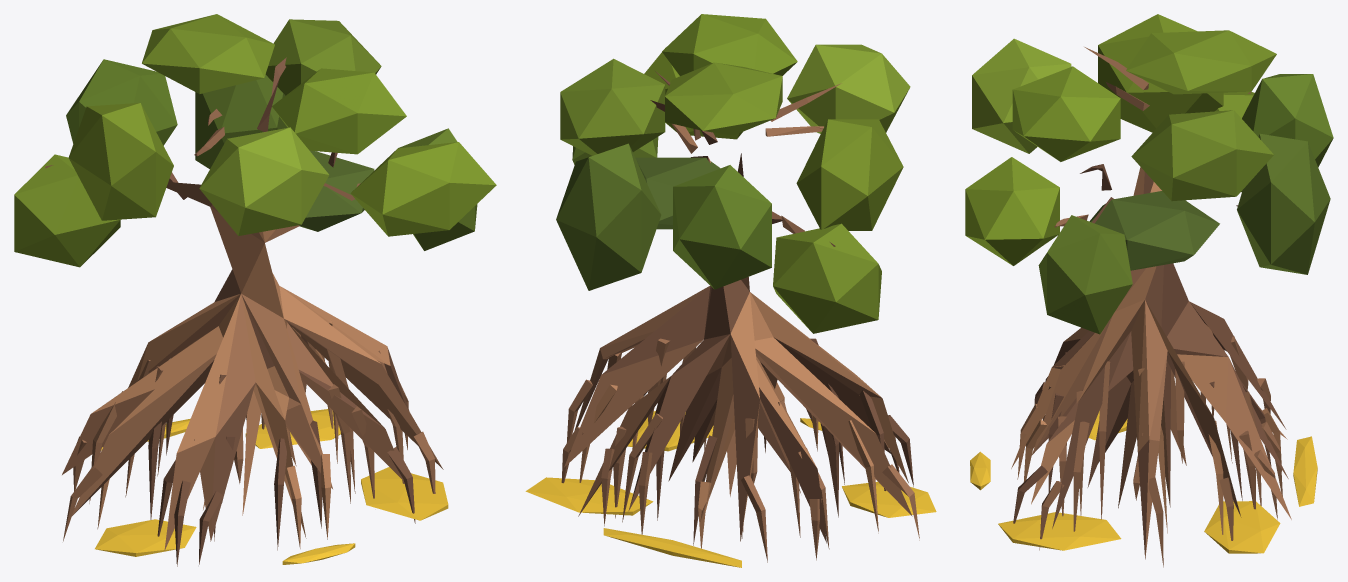
The model's file is giant_mangrove_bloom_far.glb.
3 views of the same model, side by side, from view 1: azimuth 30°, elevation 25°; view 2: azimuth 150°, elevation 25°; view 3: azimuth 270°, elevation 25° (orthographic).
Parts seen in each view (by area): view 1: giant_mangrove_bloom_far; view 2: giant_mangrove_bloom_far; view 3: giant_mangrove_bloom_far.
Boxes of the visible parts, left/top/right/bottom form: giant_mangrove_bloom_far: left=14, top=14, right=496, bottom=566; giant_mangrove_bloom_far: left=525, top=14, right=936, bottom=567; giant_mangrove_bloom_far: left=965, top=14, right=1333, bottom=567.
Size of the model in its own units: 23.77 by 26.25 by 19.91.
